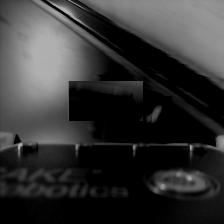Door Handle: (77, 73, 135, 130)
Lock: (136, 93, 170, 127)
